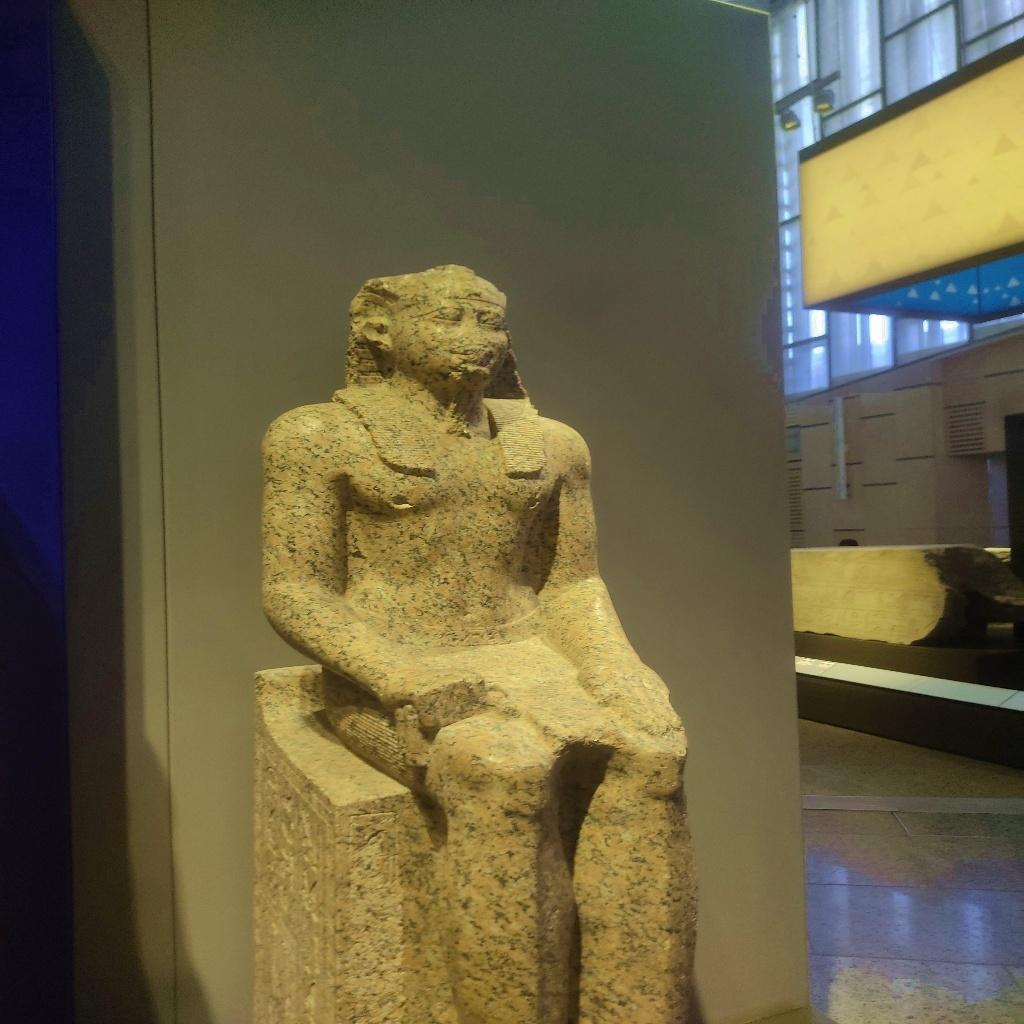Statue of Amenmhat I: (252, 261, 704, 1021)
